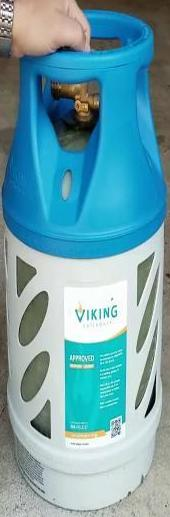cylinder: (1, 1, 170, 517)
